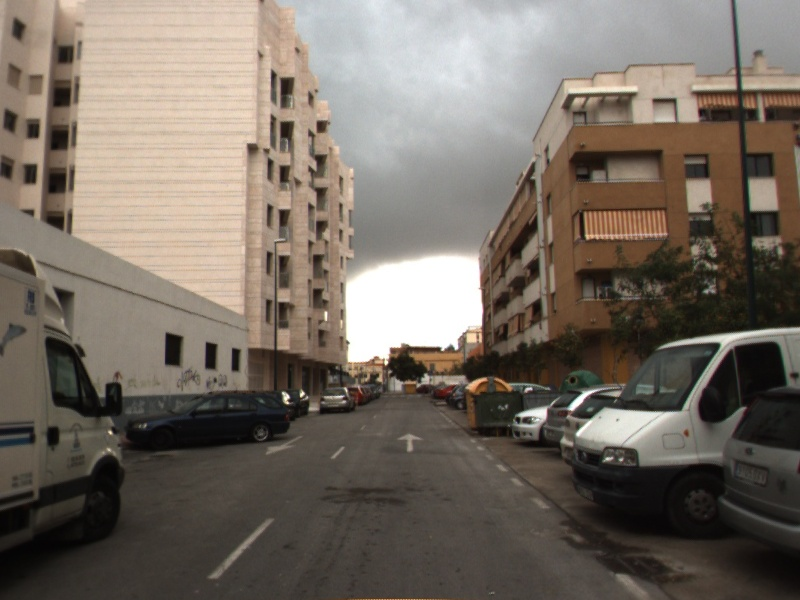STRAIGHT: (395, 431, 427, 455)
